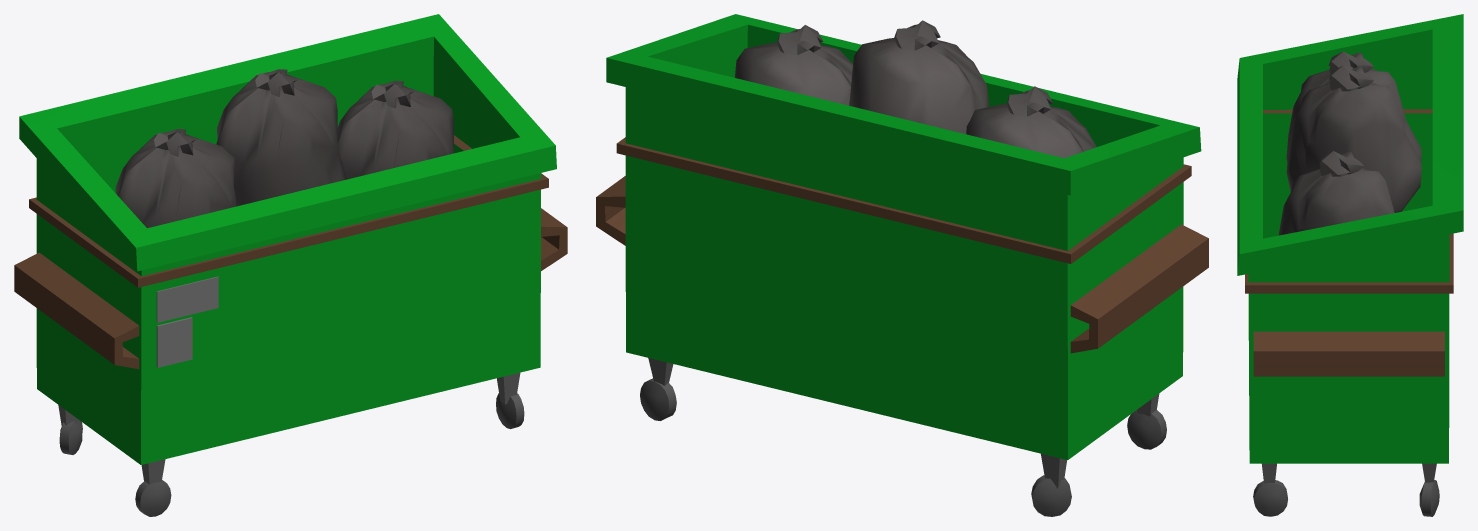
The model's file is TrashBig.fbx.
3 renders of one model, left to right at view 1: azimuth 30°, elevation 25°; view 2: azimuth 150°, elevation 25°; view 3: azimuth 270°, elevation 25°, orthographic. The views are drawn at different scales.
Parts seen in each view (by area): view 1: Cube_001_011; view 2: Cube_001_011; view 3: Cube_001_011.
Boxes of the visible parts, <box> form: Cube_001_011: <box>14,14,567,516</box>; Cube_001_011: <box>596,14,1208,516</box>; Cube_001_011: <box>1237,14,1463,516</box>.
Bounding box in the file's own units: 6098 × 4809 × 2751.
